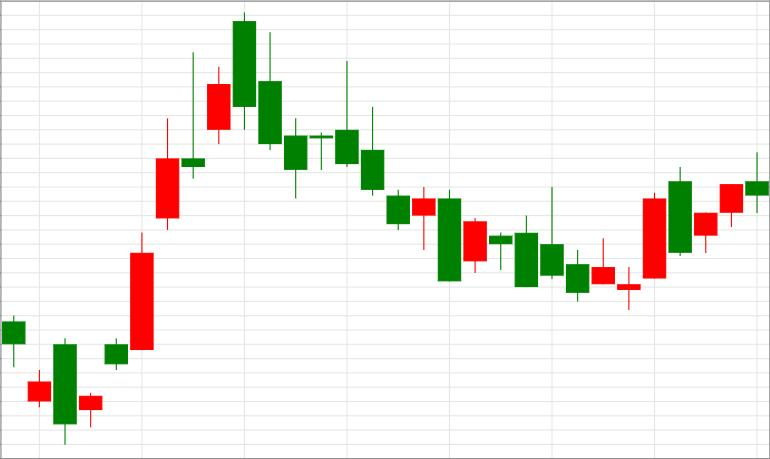inverse_hammer_rise: (233, 11, 359, 199)
